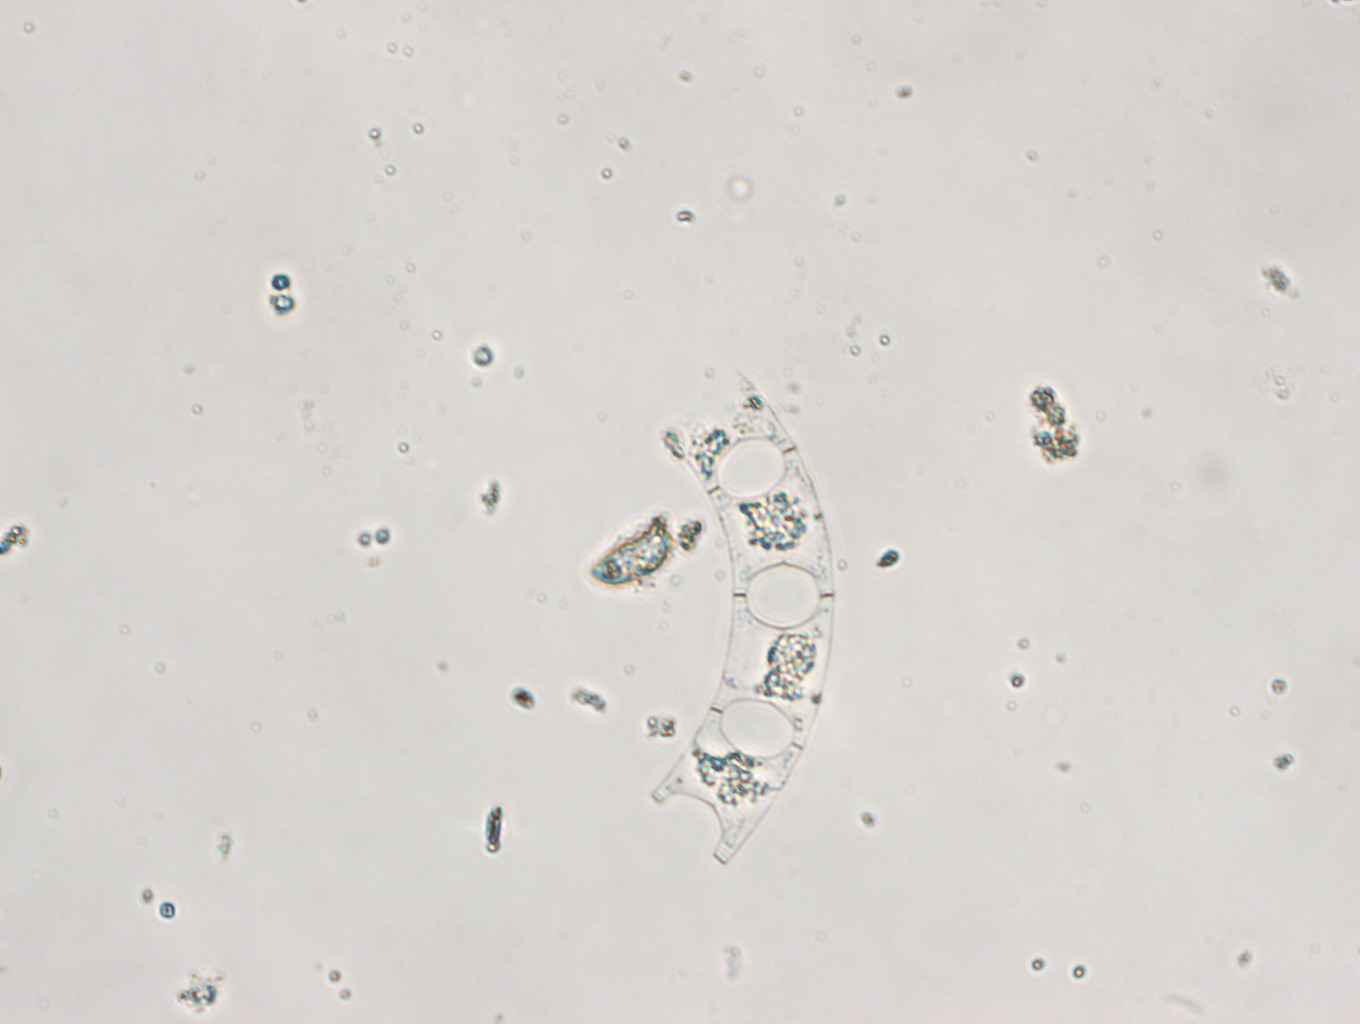eucampia: (638, 375, 844, 879)
